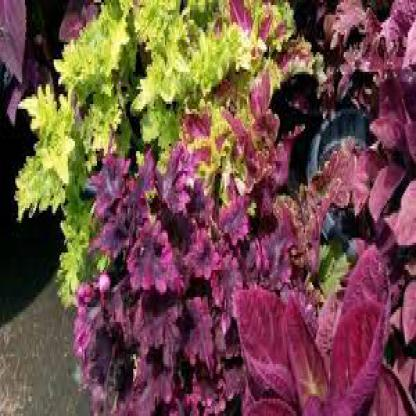Bunga Coleus: (4, 6, 411, 387)
